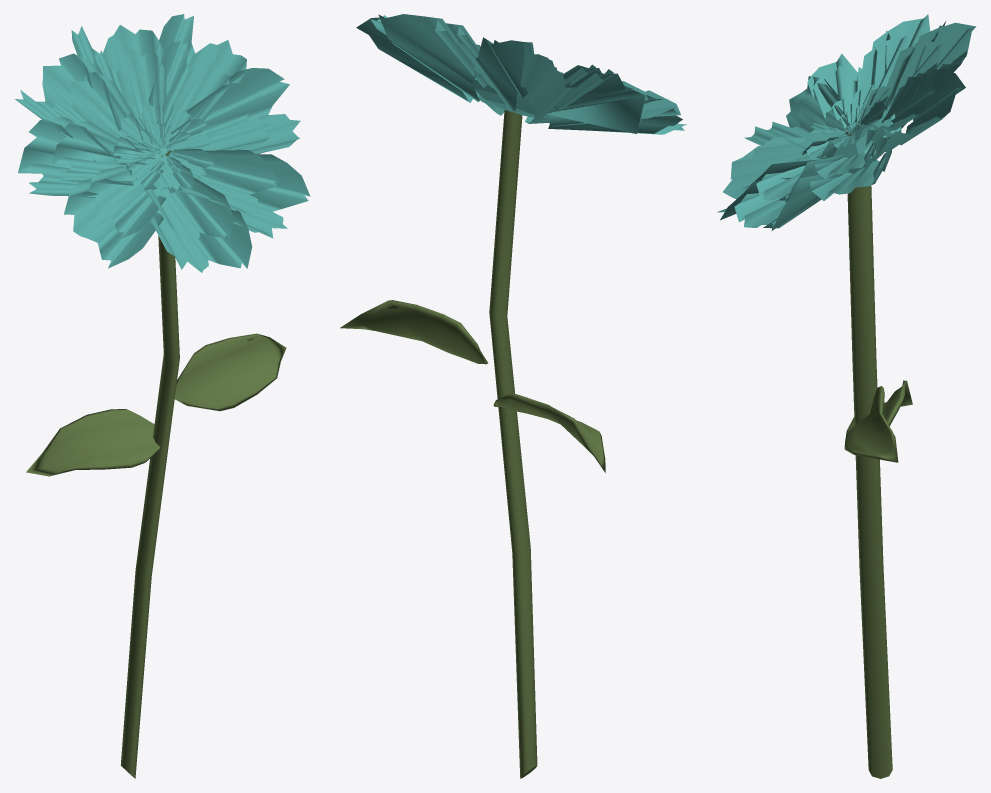
Rendered from carnationCyan.fbx.
3 views of the same model, side by side, from view 1: azimuth 30°, elevation 25°; view 2: azimuth 150°, elevation 25°; view 3: azimuth 270°, elevation 25° (orthographic). The views are drawn at different scales.
Visible parts, largest first — view 1: polySurface312; view 2: polySurface312; view 3: polySurface312.
Part boxes in pixels (x1,y1,x2,y2): polySurface312: [15, 14, 310, 778]; polySurface312: [340, 14, 686, 778]; polySurface312: [717, 14, 976, 778].
Bounding box in the file's own units: 1.22 × 2.93 × 0.9236.
